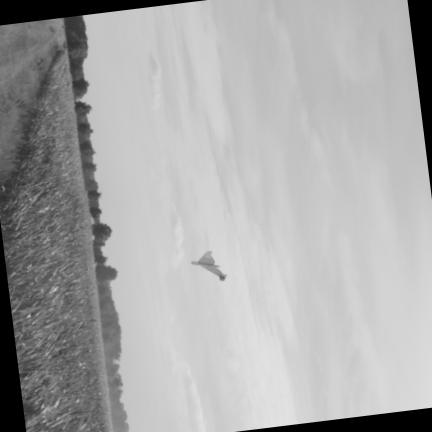Shahed: (190, 251, 225, 280)
